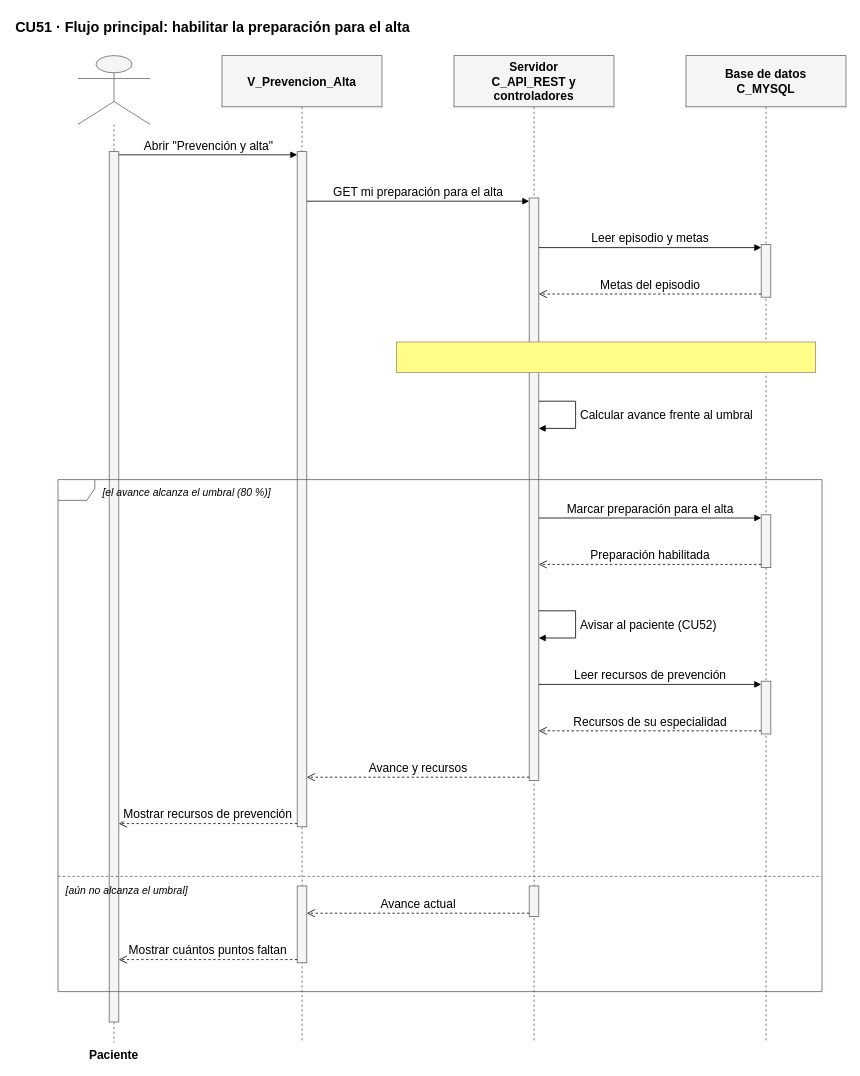
The diagram is 860 pixels wide and 1076 high, and some of its shapes have lost their labels. Each missing label, with the centre of its shape:
"alt" belongs at [439,735].
"También se evalúa cuando el profesional registra un avance (CU32)" belongs at [606,356].
